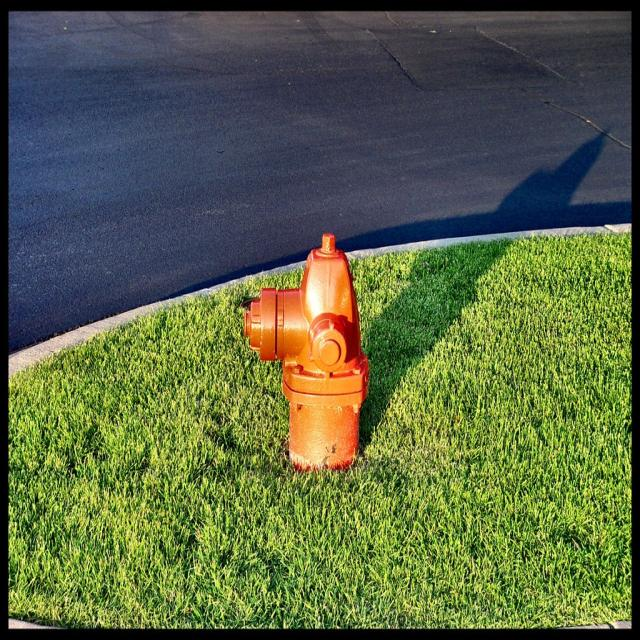fire_hydrant: (244, 230, 370, 464)
